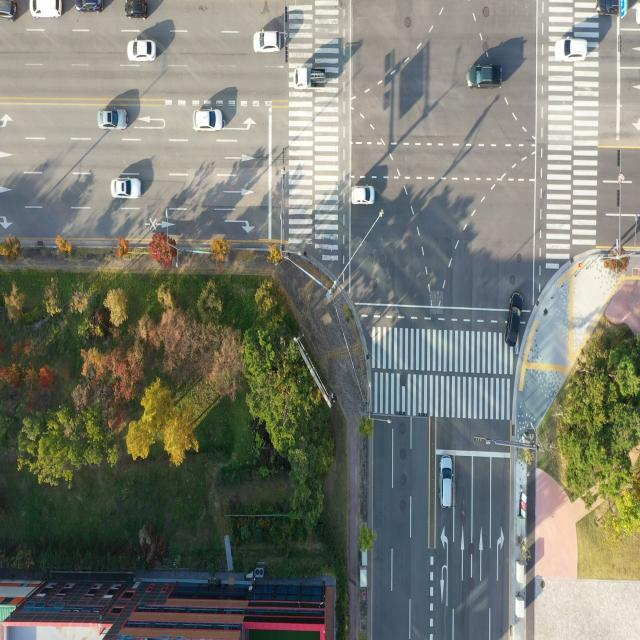car: (506, 290, 526, 346), (466, 60, 504, 89), (557, 32, 590, 63), (192, 102, 224, 132), (440, 456, 456, 510), (29, 0, 64, 21), (129, 38, 156, 65), (100, 107, 129, 130), (256, 29, 284, 52), (111, 176, 139, 198), (596, 0, 627, 17), (351, 184, 374, 206), (74, 0, 107, 14), (0, 0, 19, 23), (124, 2, 150, 17)
small_truck: (292, 67, 327, 92)
